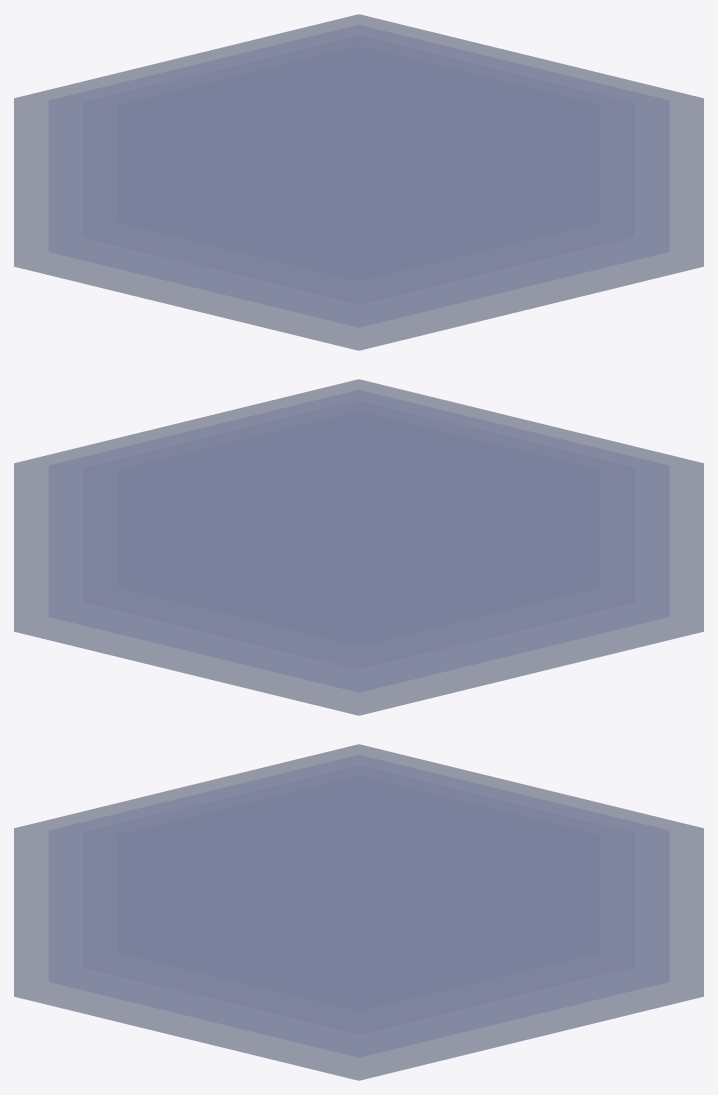
File: fog-hex.glb
The picture shows the model from 3 angles, top to bottom: view 1: azimuth 30°, elevation 25°; view 2: azimuth 150°, elevation 25°; view 3: azimuth 270°, elevation 25°; orthographic projection.
Visible parts, largest first — view 1: fog_hex, fog_hex.001; view 2: fog_hex, fog_hex.001; view 3: fog_hex, fog_hex.001.
Boxes of the visible parts, x1,y1,x2,y2 form: fog_hex: (14,14,703,350); fog_hex.001: (49,25,669,327); fog_hex: (14,379,703,715); fog_hex.001: (49,390,669,692); fog_hex: (14,744,703,1080); fog_hex.001: (49,755,669,1057).
Bounding box in the file's own units: 1.15 × 0.03 × 1.
